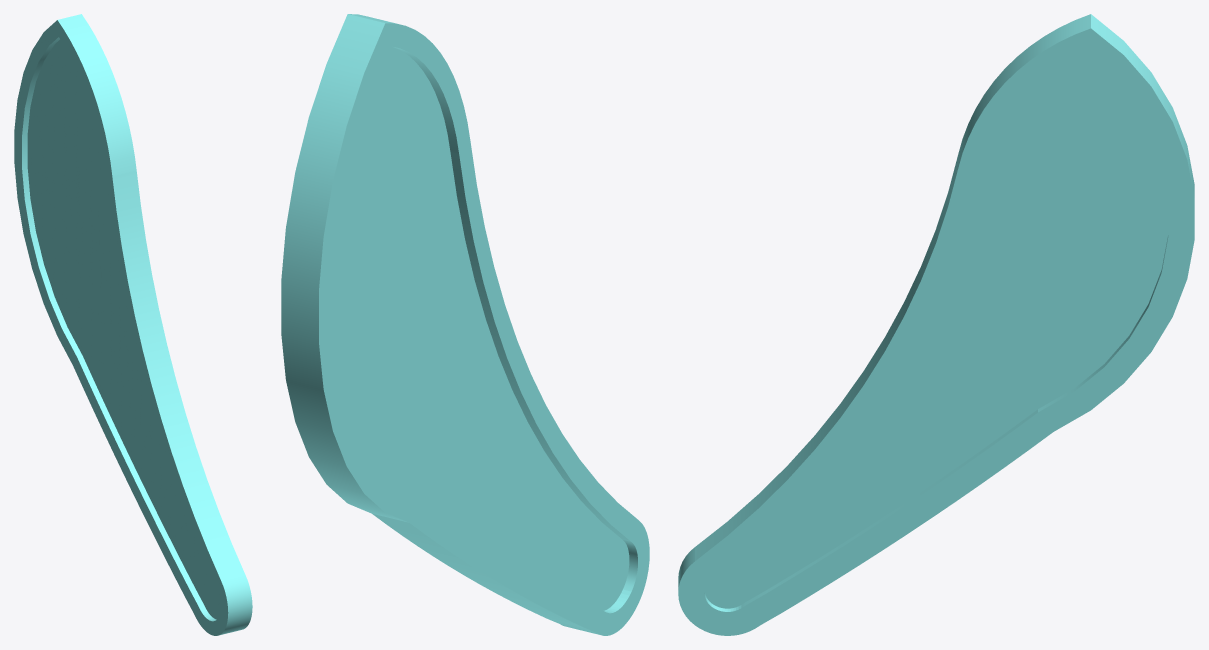
File: original-12.obj
3 views of the same model, side by side, from view 1: azimuth 30°, elevation 25°; view 2: azimuth 150°, elevation 25°; view 3: azimuth 270°, elevation 25° (orthographic). The views are drawn at different scales.
Visible parts, largest first — view 1: Group9/mesh7/mesh7-geometry#mesh7-geometry; view 2: Group9/mesh7/mesh7-geometry#mesh7-geometry; view 3: Group9/mesh7/mesh7-geometry#mesh7-geometry.
Part boxes in pixels (x1,y1,x2,y2): Group9/mesh7/mesh7-geometry#mesh7-geometry: (14, 14, 252, 635); Group9/mesh7/mesh7-geometry#mesh7-geometry: (281, 14, 649, 635); Group9/mesh7/mesh7-geometry#mesh7-geometry: (678, 14, 1194, 635).
Bounding box in the file's own units: 0.011 × 0.2164 × 0.1667.
